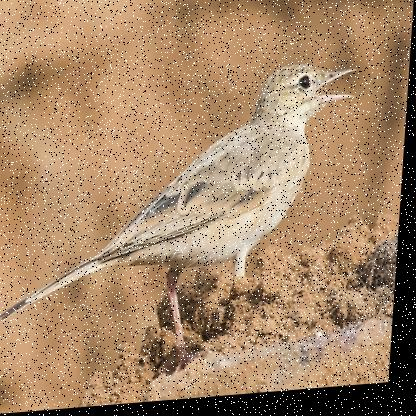Burung: (0, 60, 362, 378)
